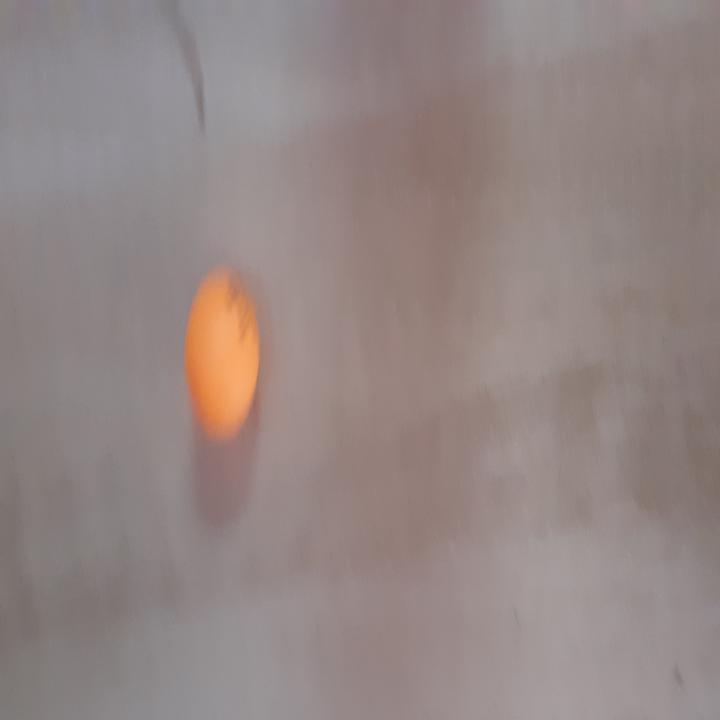orange: (186, 268, 259, 436)
